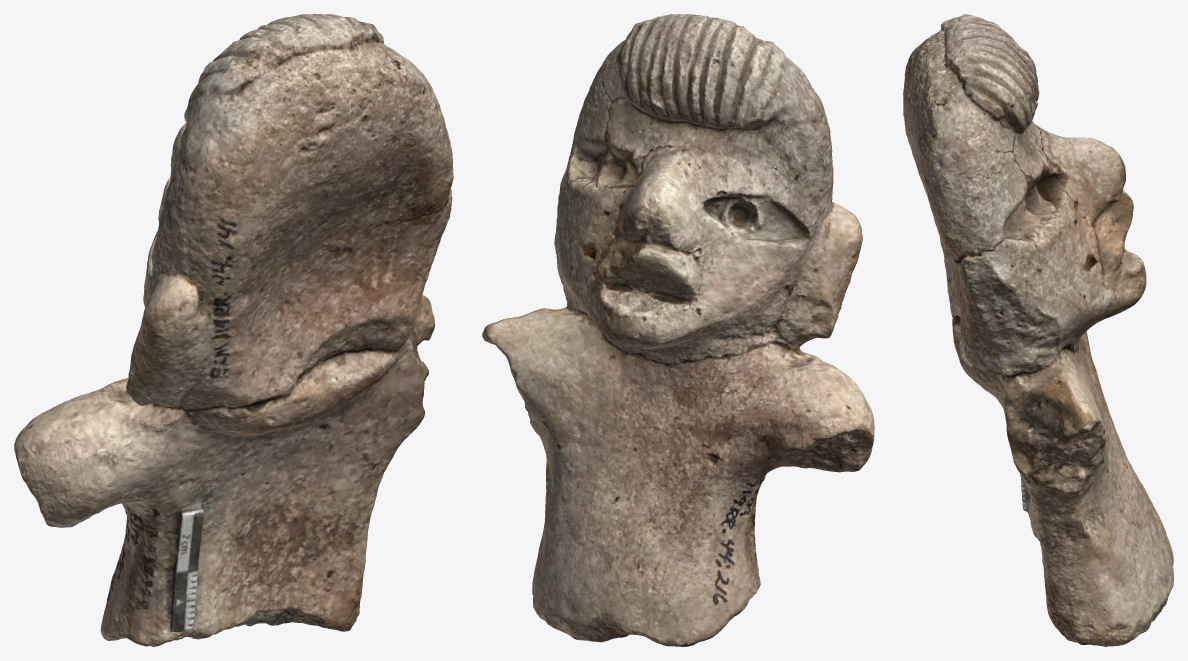
Rendered from trogon_03.glb.
3 renders of one model, left to right at view 1: azimuth 30°, elevation 25°; view 2: azimuth 150°, elevation 25°; view 3: azimuth 270°, elevation 25°, orthographic. The views are drawn at different scales.
Bounding box in the file's own units: 0.7766 × 1.16 × 0.4938.
1 material, 1 textured.
